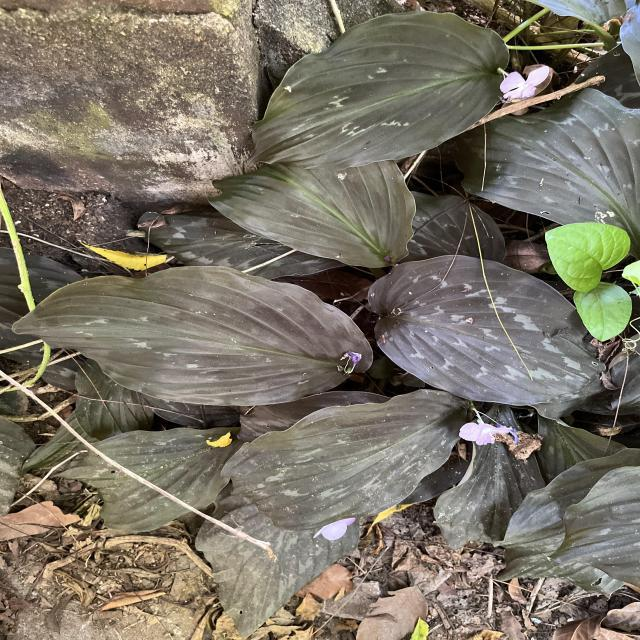Kaempferia galanga linn: (8, 262, 374, 408), (244, 9, 512, 172), (366, 253, 618, 407), (219, 388, 472, 536), (204, 160, 418, 269)
